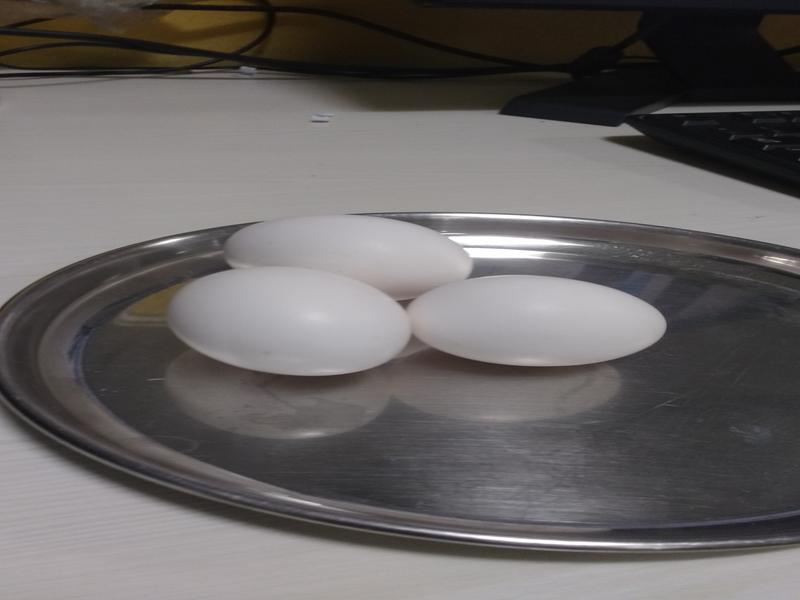egg: (166, 263, 409, 373)
